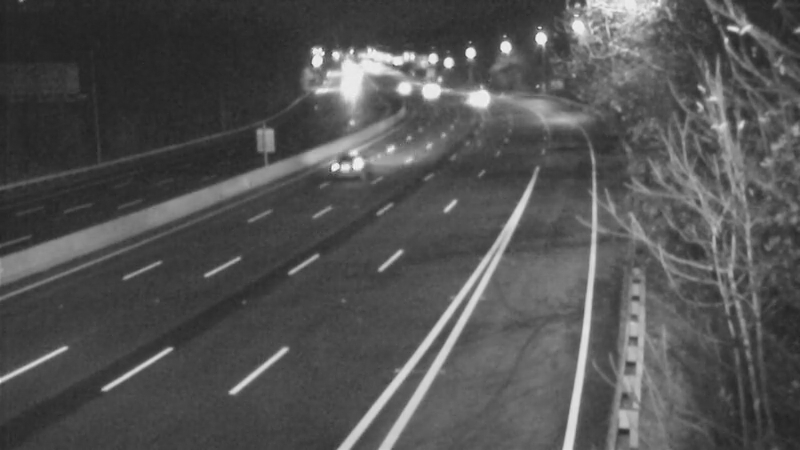vehicle: (303, 124, 383, 204), (374, 60, 424, 110), (402, 68, 452, 118), (448, 71, 498, 121), (321, 61, 371, 111)
